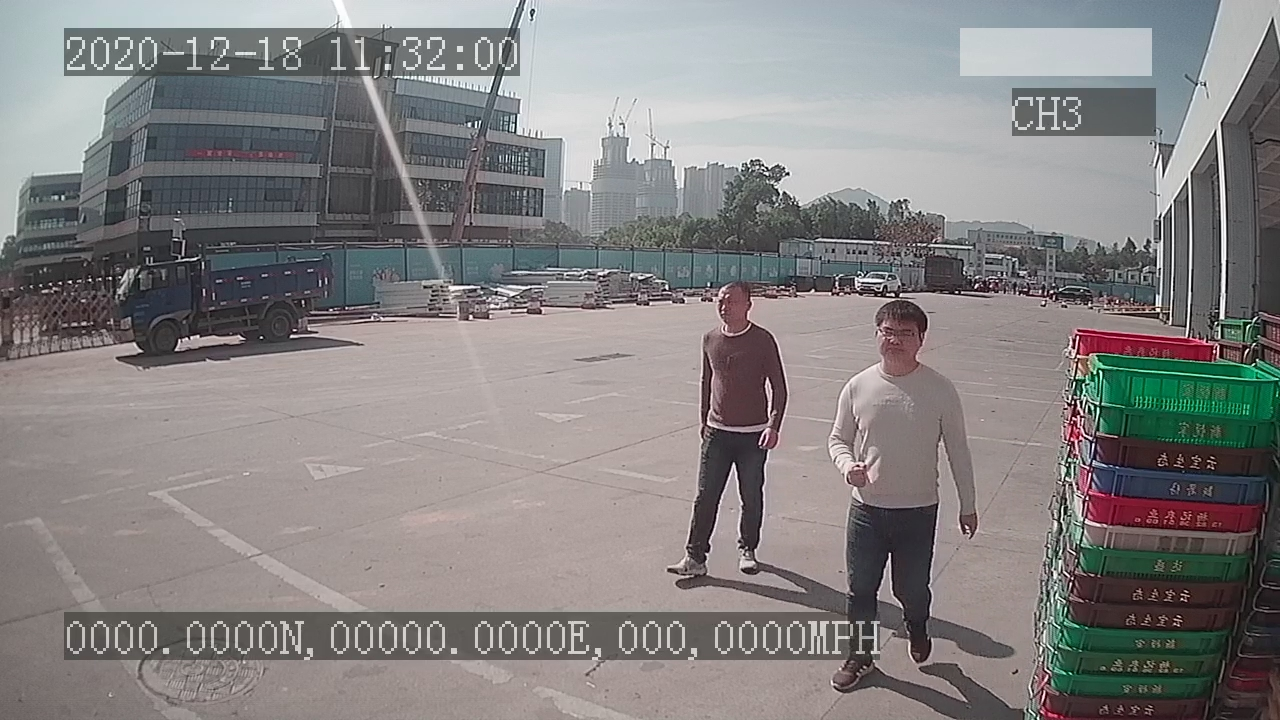person: (665, 281, 791, 581)
